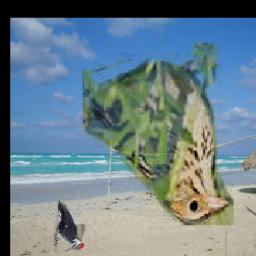Sparrow: (83, 43, 234, 225)
Woodpecker: (53, 199, 85, 251)
